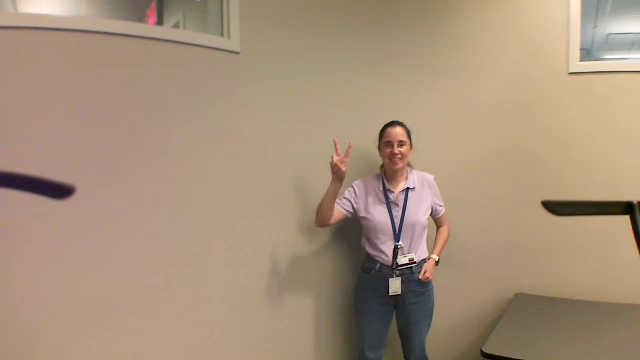peace: (322, 136, 356, 176)
